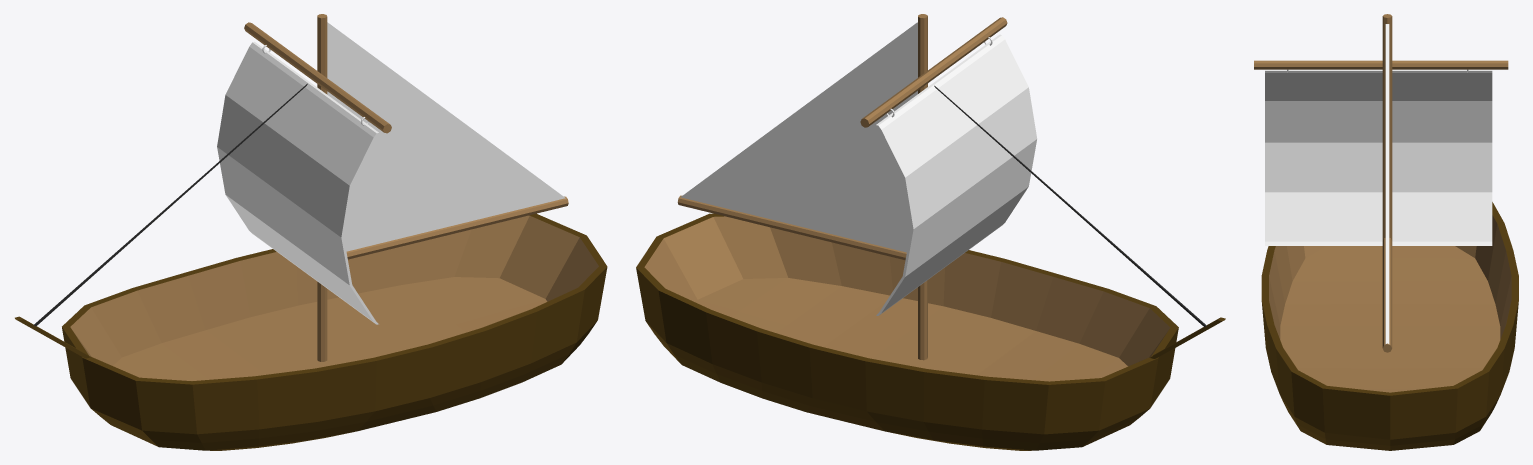
Rendered from Boat_A7.fbx.
3 views of the same model, side by side, from view 1: azimuth 30°, elevation 25°; view 2: azimuth 150°, elevation 25°; view 3: azimuth 270°, elevation 25° (orthographic). The views are drawn at different scales.
Parts seen in each view (by area): view 1: Boat_A7; view 2: Boat_A7; view 3: Boat_A7.
Boxes of the visible parts, left/top/right/bottom form: Boat_A7: left=15, top=14, right=607, bottom=450; Boat_A7: left=636, top=14, right=1225, bottom=450; Boat_A7: left=1254, top=14, right=1518, bottom=450.
Bounding box in the file's own units: 7.17 × 4.49 × 3.15.
